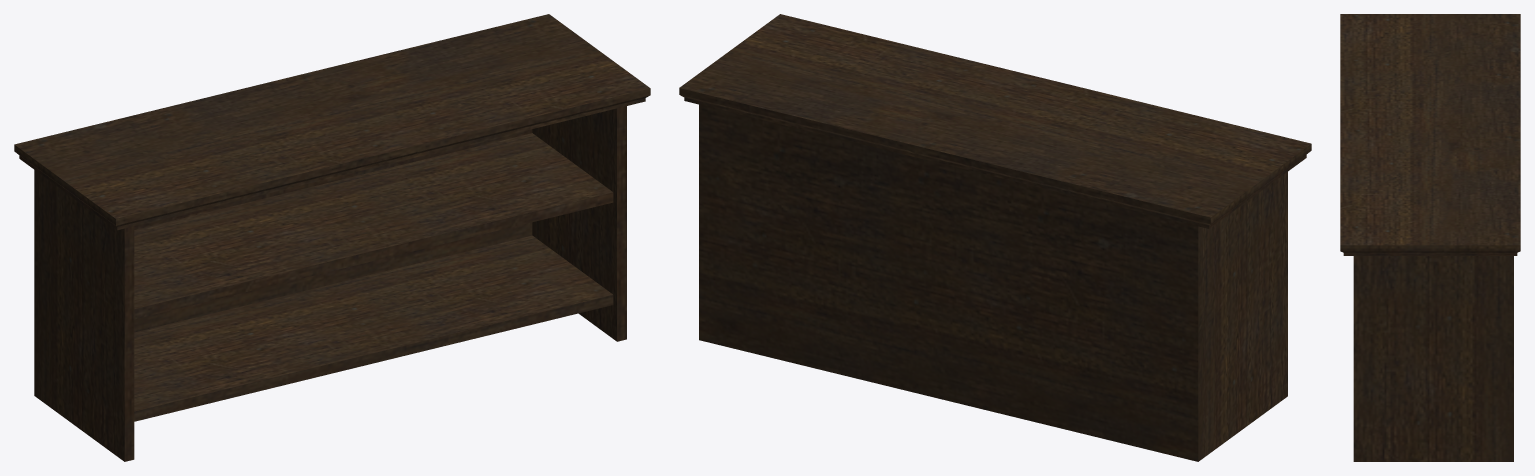
File: tv_table_1_1.obj
3 views of the same model, side by side, from view 1: azimuth 30°, elevation 25°; view 2: azimuth 150°, elevation 25°; view 3: azimuth 270°, elevation 25° (orthographic). The views are drawn at different scales.
Visible parts, largest first — view 1: tv_table_1_1; view 2: tv_table_1_1; view 3: tv_table_1_1.
Part boxes in pixels (box(x1,y1,x2,y2)): tv_table_1_1: box(14, 14, 650, 461); tv_table_1_1: box(679, 14, 1311, 461); tv_table_1_1: box(1340, 14, 1520, 461).
Bounding box in the file's own units: 1.64 × 0.74 × 0.54.
